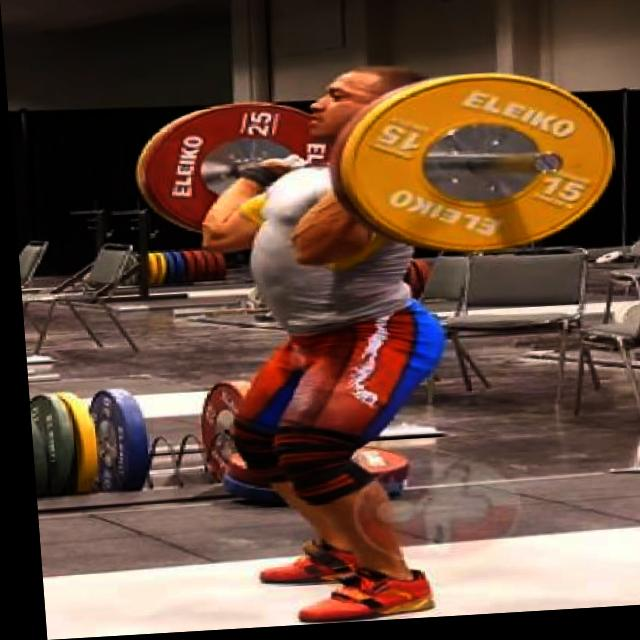barbell: (338, 71, 623, 270)
